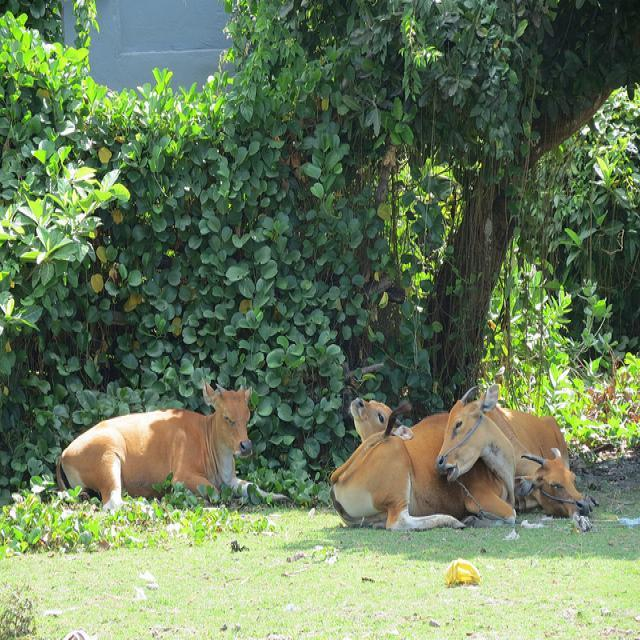cow: (57, 373, 281, 504), (327, 380, 520, 529), (486, 404, 588, 516), (349, 396, 411, 440)
